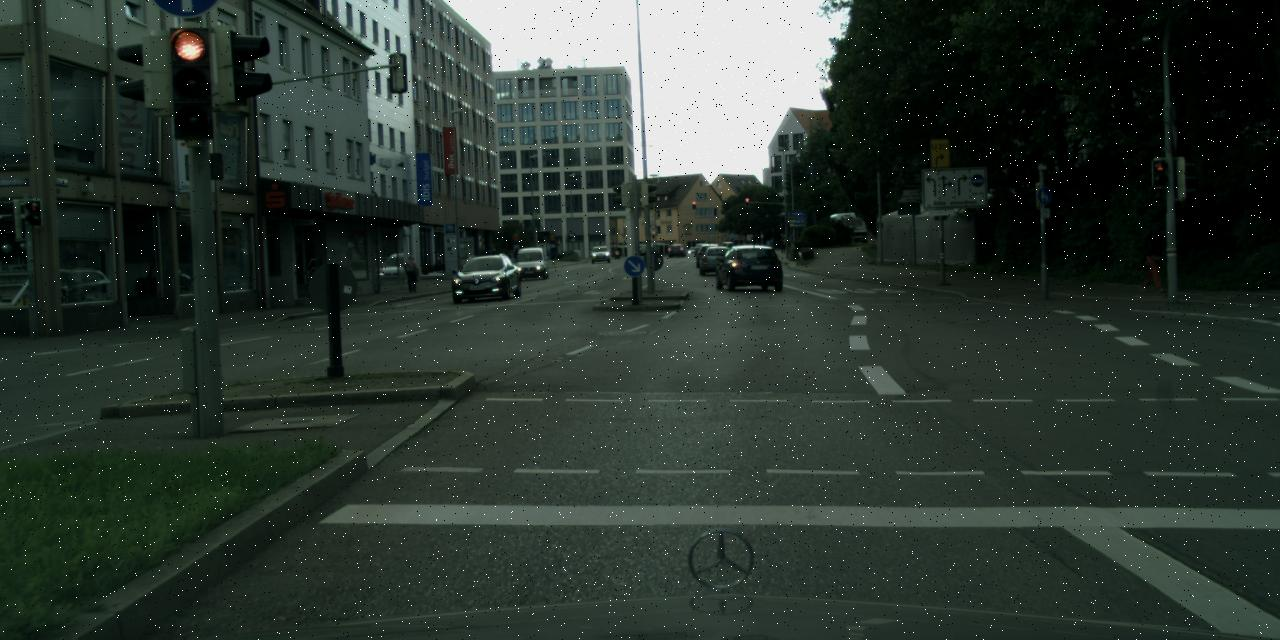ped: (1140, 226, 1166, 290), (404, 255, 419, 292), (512, 247, 520, 266), (506, 249, 513, 267), (780, 235, 786, 252)
